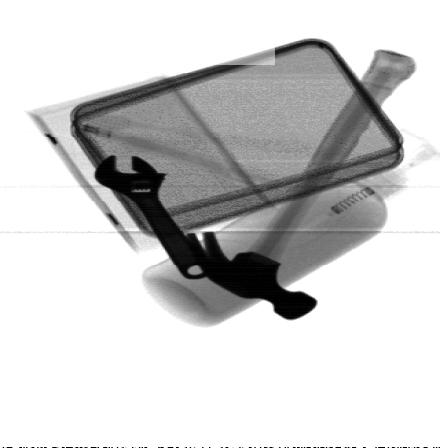Hammer: (184, 49, 417, 320)
Wrench: (93, 154, 209, 280)
